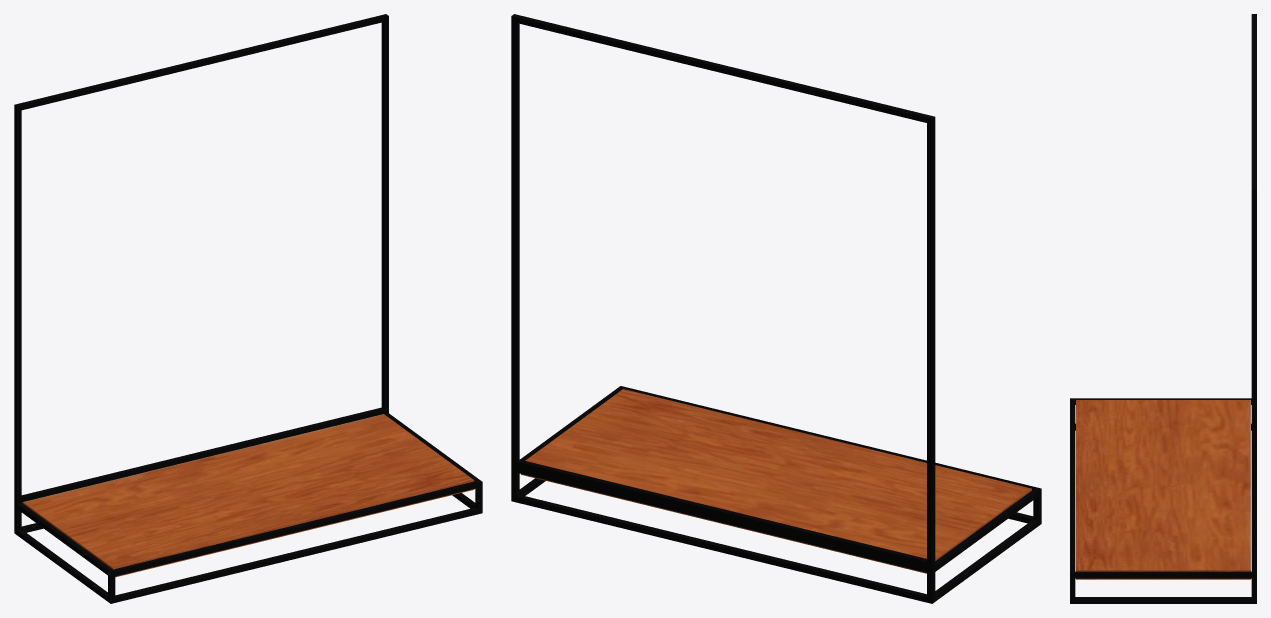
The model's file is shelf-06-a.glb.
The picture shows the model from 3 angles, left to right: view 1: azimuth 30°, elevation 25°; view 2: azimuth 150°, elevation 25°; view 3: azimuth 270°, elevation 25°; orthographic projection. The views are drawn at different scales.
Visible parts, largest first — view 1: Shelf_06_a; view 2: Shelf_06_a; view 3: Shelf_06_a.
Boxes of the visible parts, x1,y1,x2,y2 form: Shelf_06_a: (14,14,482,603); Shelf_06_a: (511,14,1041,603); Shelf_06_a: (1070,14,1256,603).
Bounding box in the file's own units: 2 × 2.2 × 0.9.
1 material, 1 textured.
